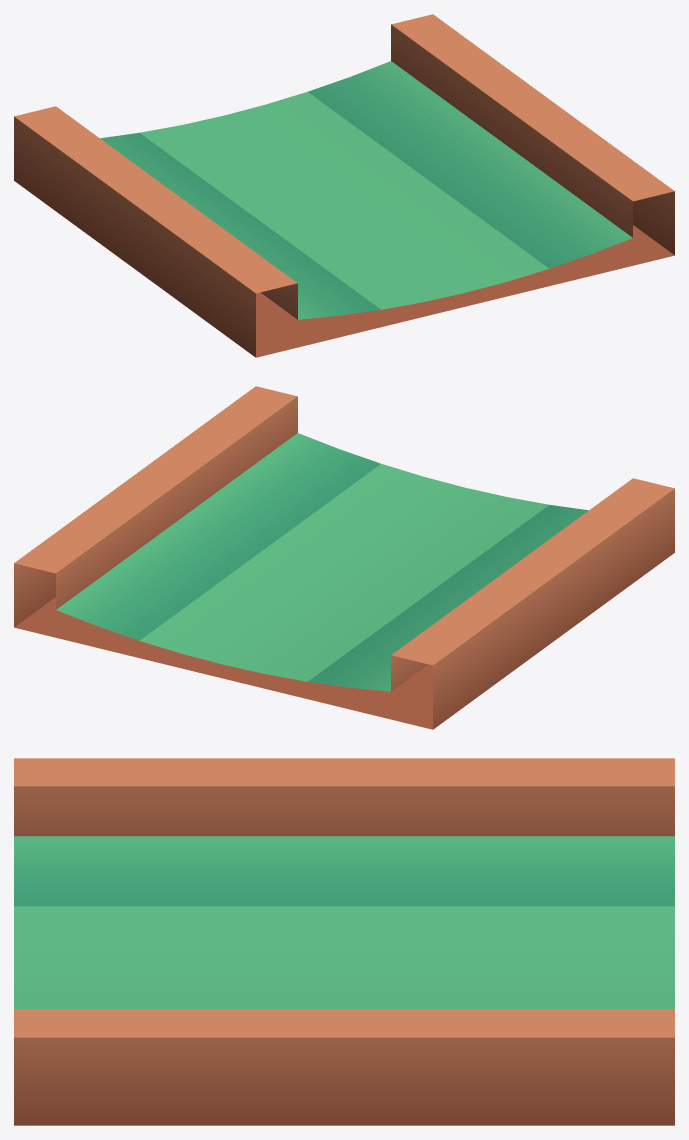
File: spline-concave.glb
3 renders of one model, top to bottom at view 1: azimuth 30°, elevation 25°; view 2: azimuth 150°, elevation 25°; view 3: azimuth 270°, elevation 25°, orthographic. The views are drawn at different scales.
Visible parts, largest first — view 1: spline-concave; view 2: spline-concave; view 3: spline-concave.
Part boxes in pixels (x1,y1,x2,y2): spline-concave: (14, 14, 674, 357); spline-concave: (14, 386, 674, 729); spline-concave: (14, 758, 674, 1125).
Bounding box in the file's own units: 0.9999 × 0.1466 × 0.9999.
1 material, 1 textured.
